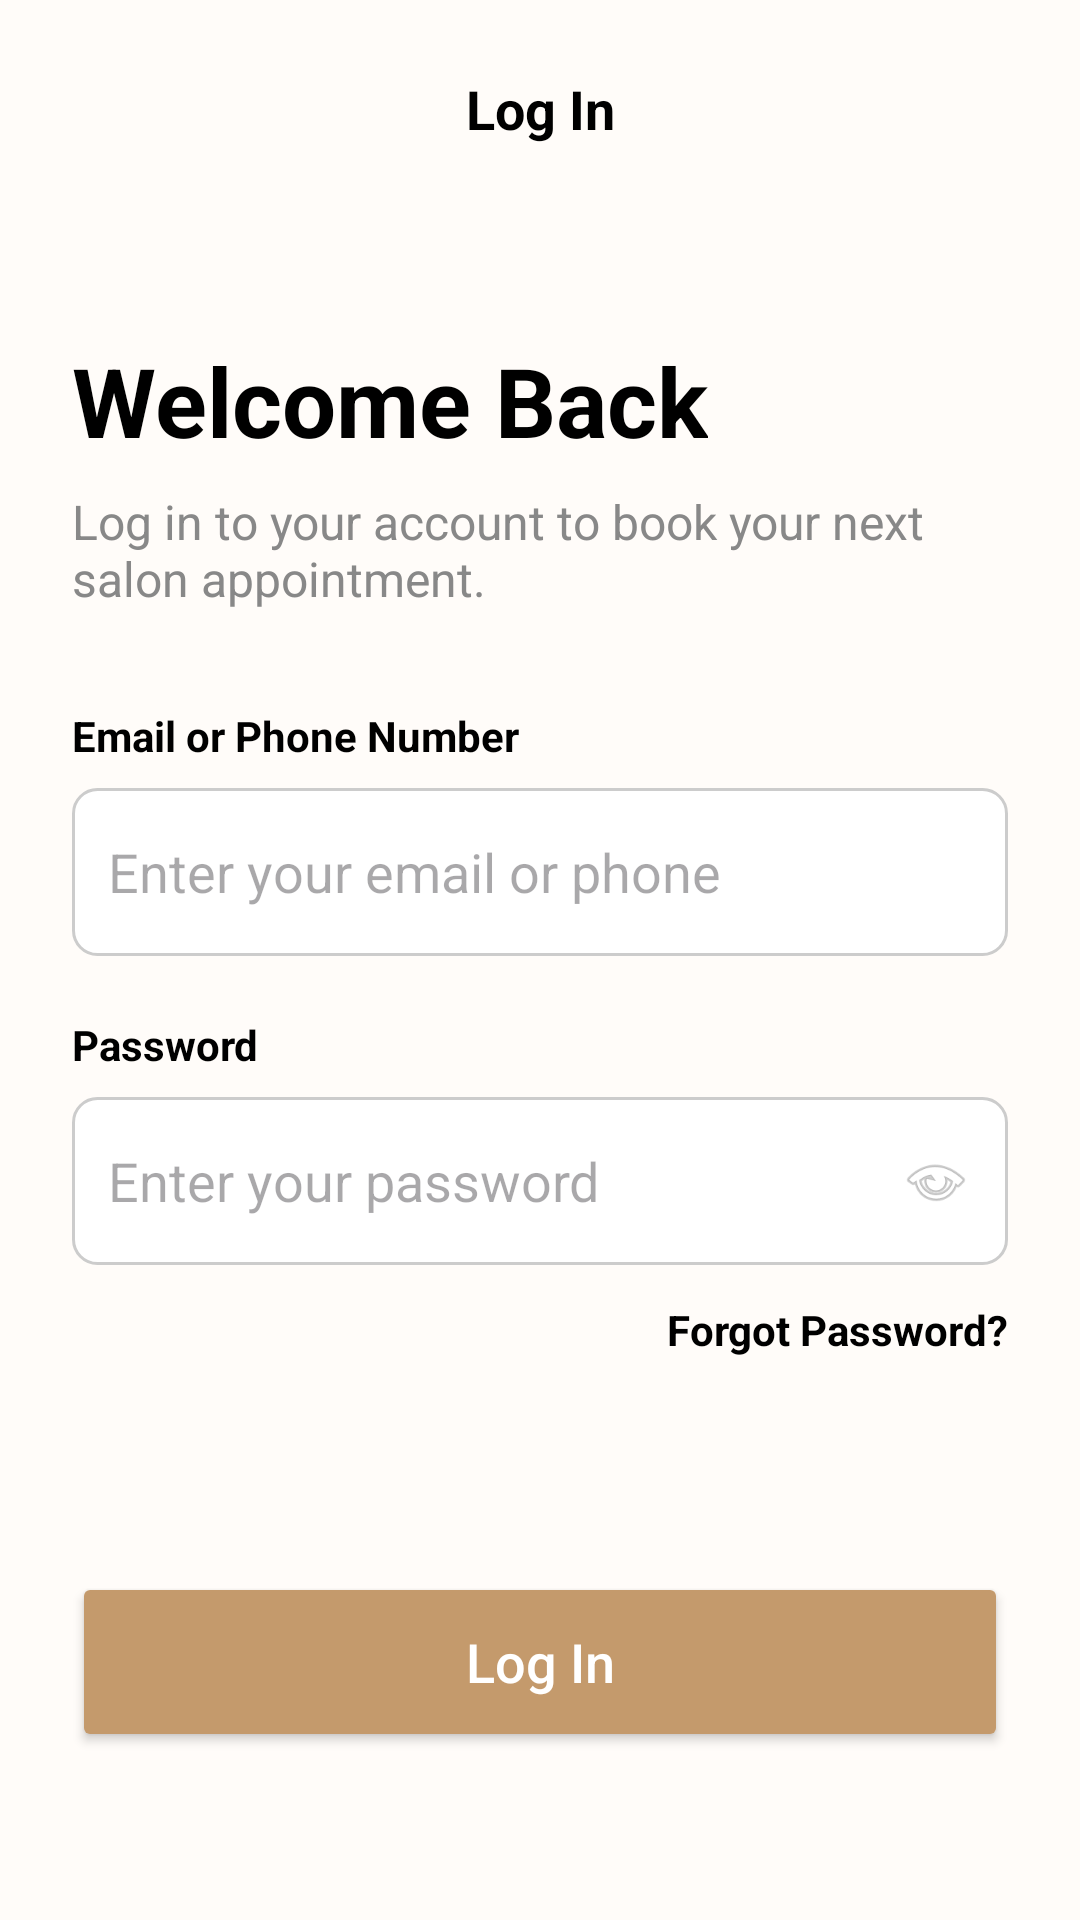

Locate icon controls on the screen. Image size 1080×1920, boxes as bbox=(x1, y1, x2, y2).
view: bbox=(907, 1165, 965, 1201)
